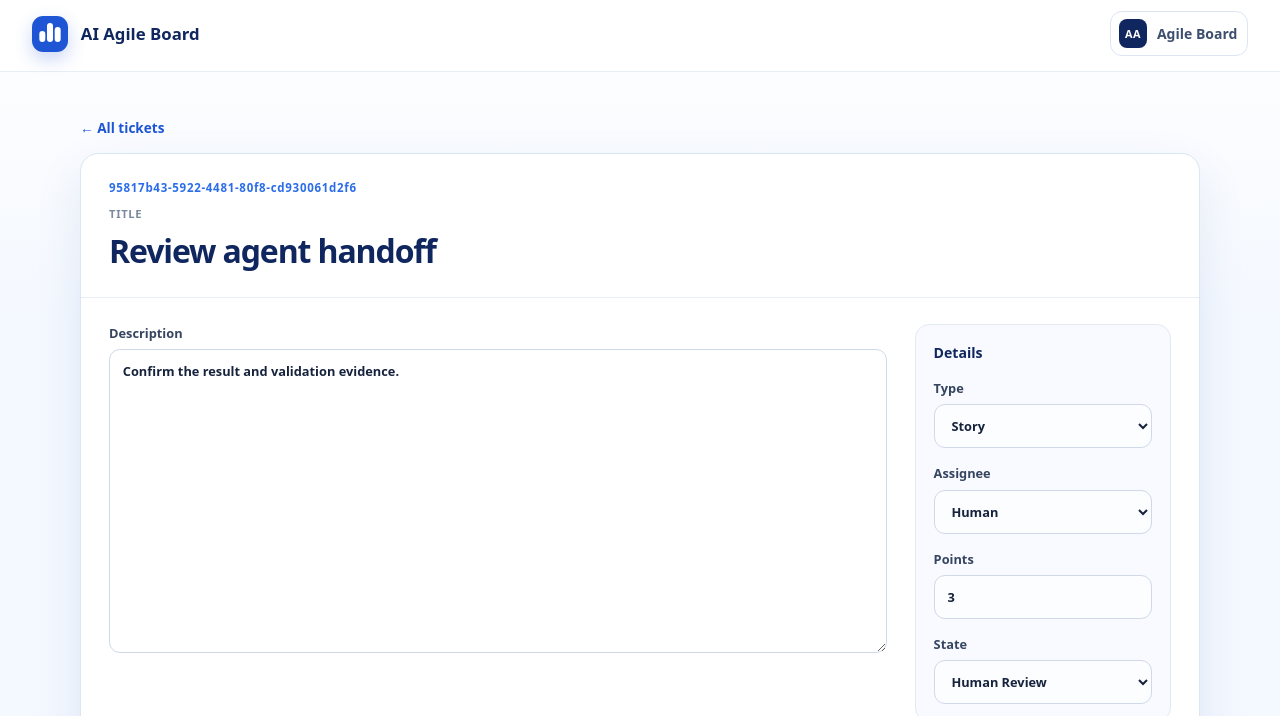
Test: TicketDetailPage › saves edited ticket fields
Replace the text in the field labelled "Title" with "Approve agent handoff" at (640, 250), box [109,226,1171,274]
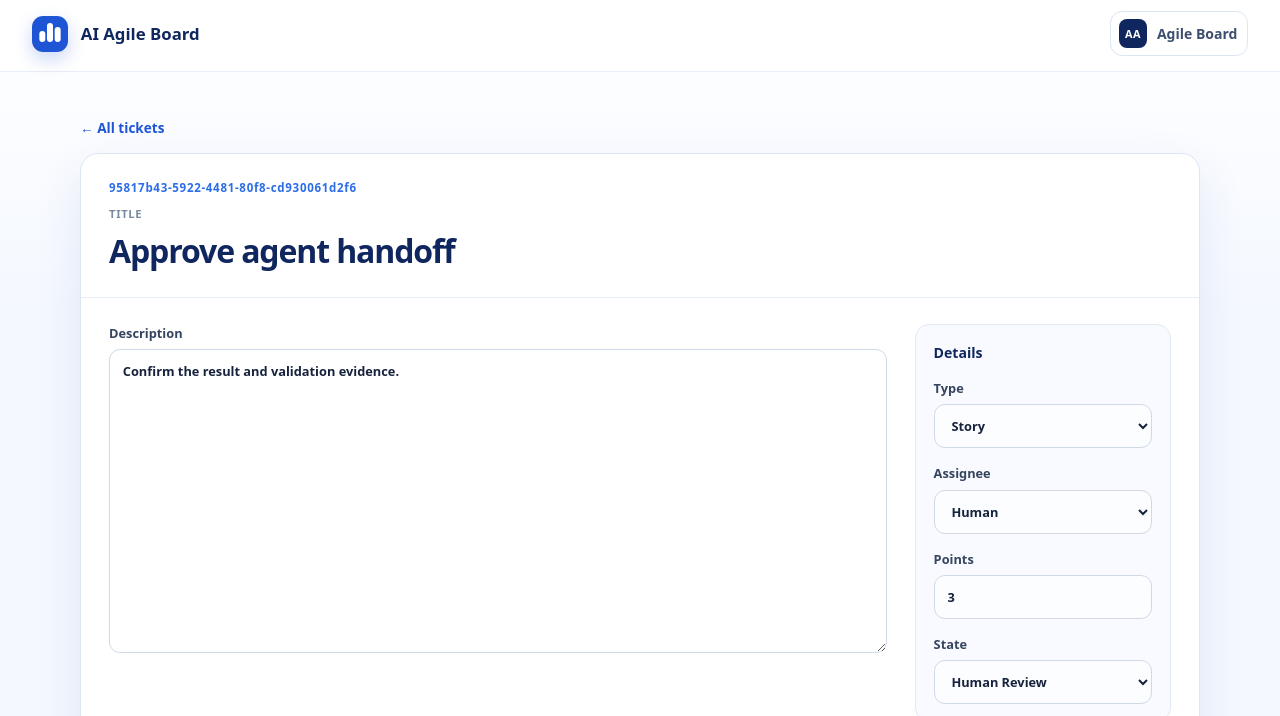
Replace the text in the number field labelled "Points" with "5" at (1043, 597), box [934,575,1152,619]
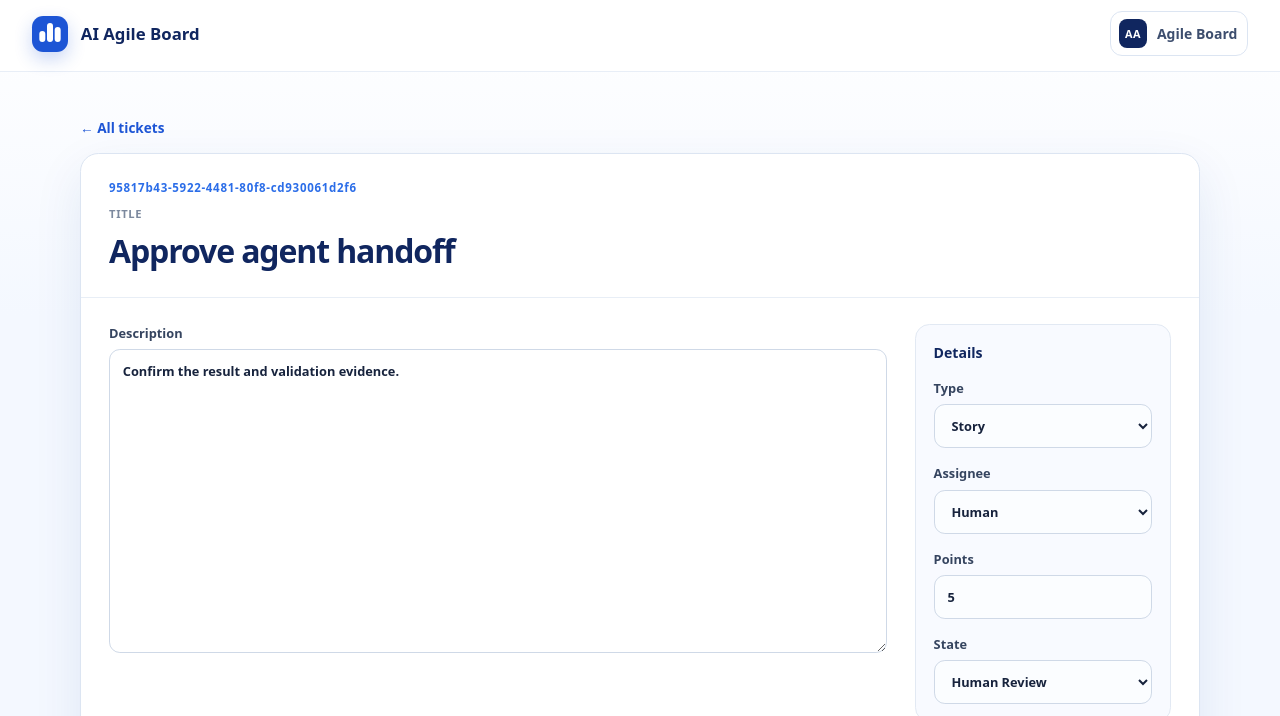
Select "Feature" in the dropdown labelled "Type" at (1043, 426), box [934,404,1152,448]
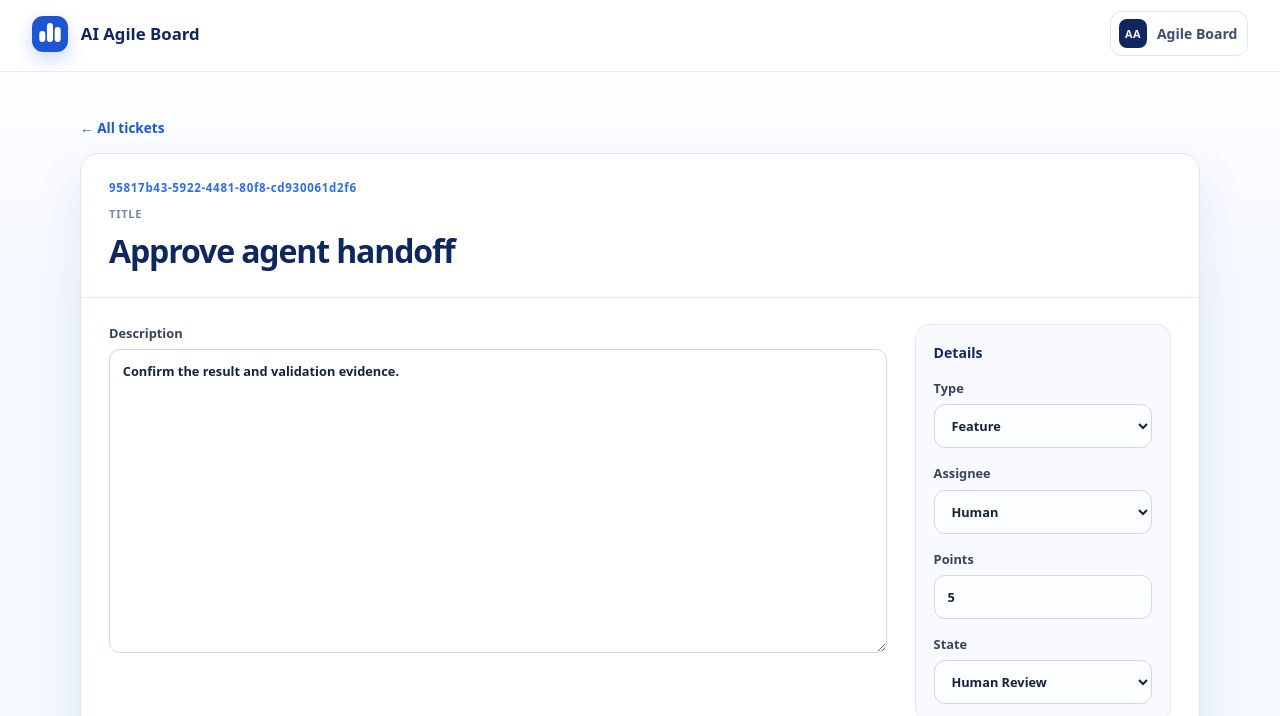
Select "Done" in the dropdown labelled "State" at (1043, 682), box [934,660,1152,704]
(page scrolled)
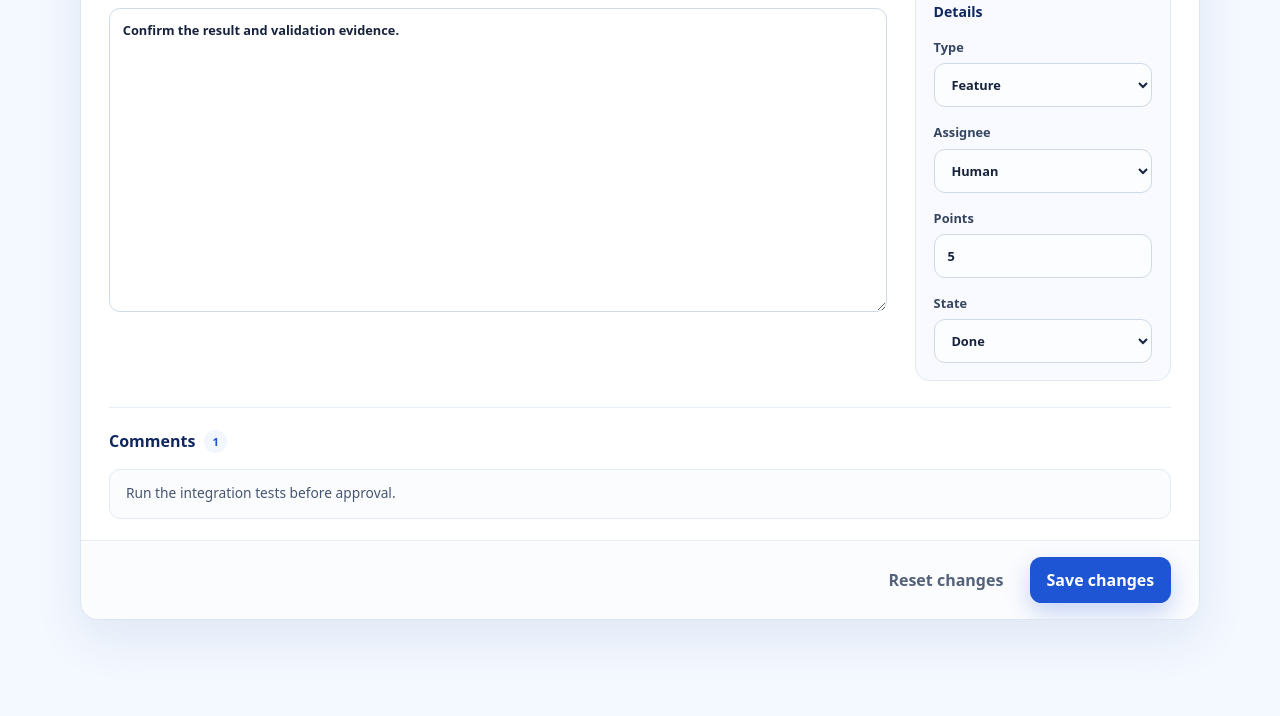
Click the button "Save changes".
click(1100, 580)  # box [1030,557,1171,603]
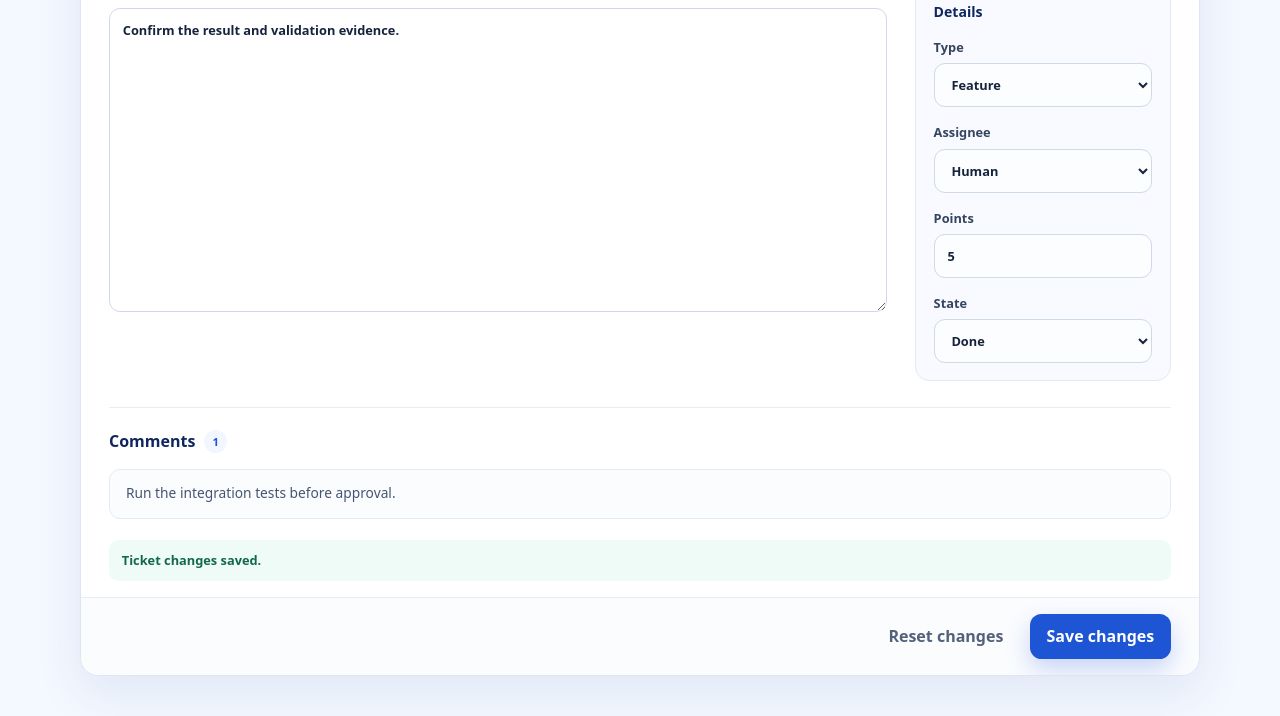
Check: the text "Ticket changes saved." is shown, box [109,540,1171,581]
